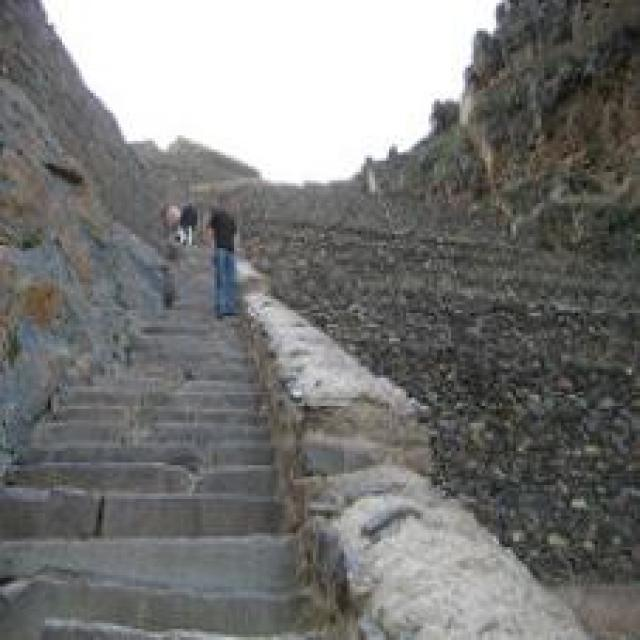stair: (39, 362, 278, 599)
